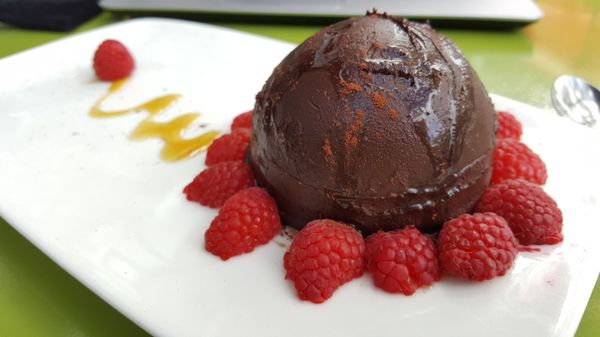salad: (551, 75, 600, 129)
